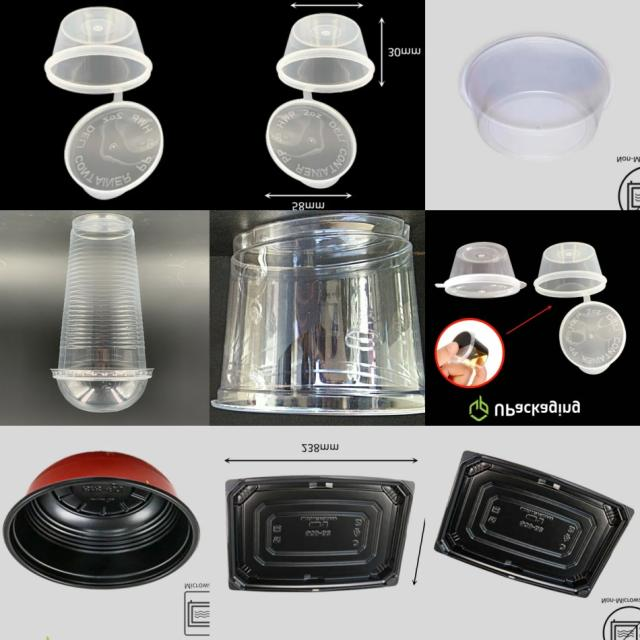plastik: (212, 213, 425, 415), (435, 452, 633, 596), (3, 453, 199, 590), (44, 7, 163, 199), (226, 477, 413, 591), (52, 214, 153, 411), (266, 14, 375, 188), (461, 36, 612, 160), (533, 242, 626, 375), (436, 242, 527, 298)
